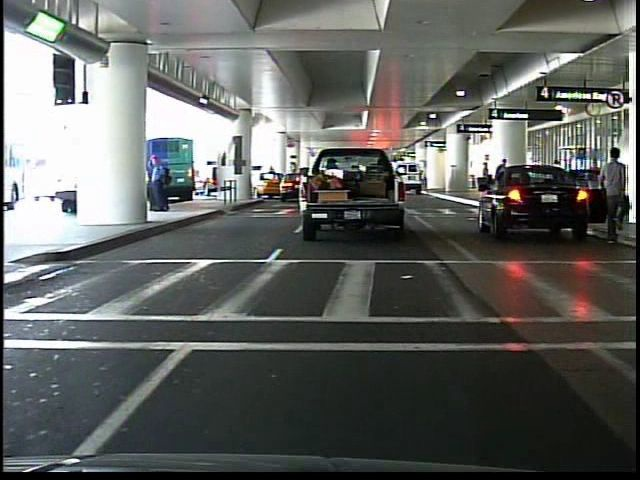person: (592, 144, 633, 244), (148, 148, 174, 216)
